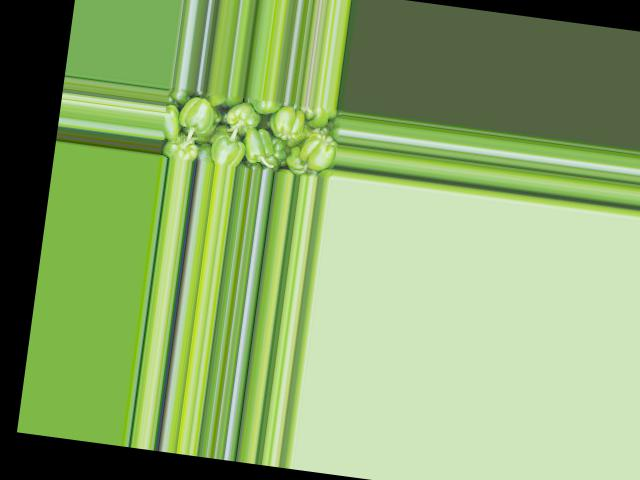bell_pepper: (161, 87, 342, 177)
